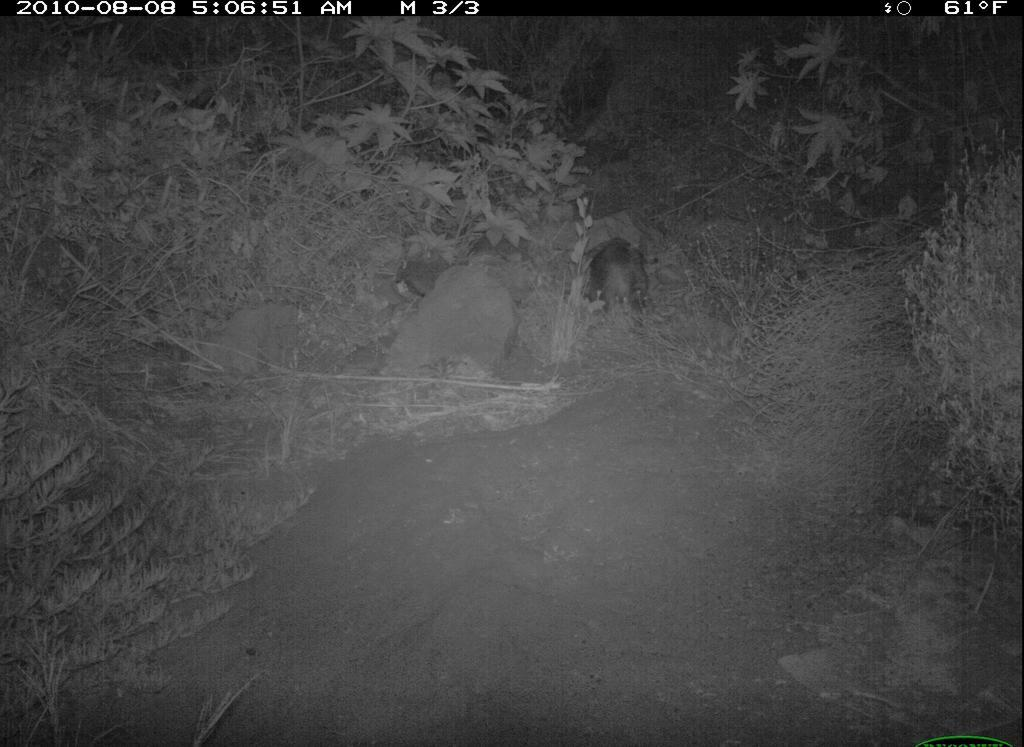raccoon: (571, 226, 658, 326)
